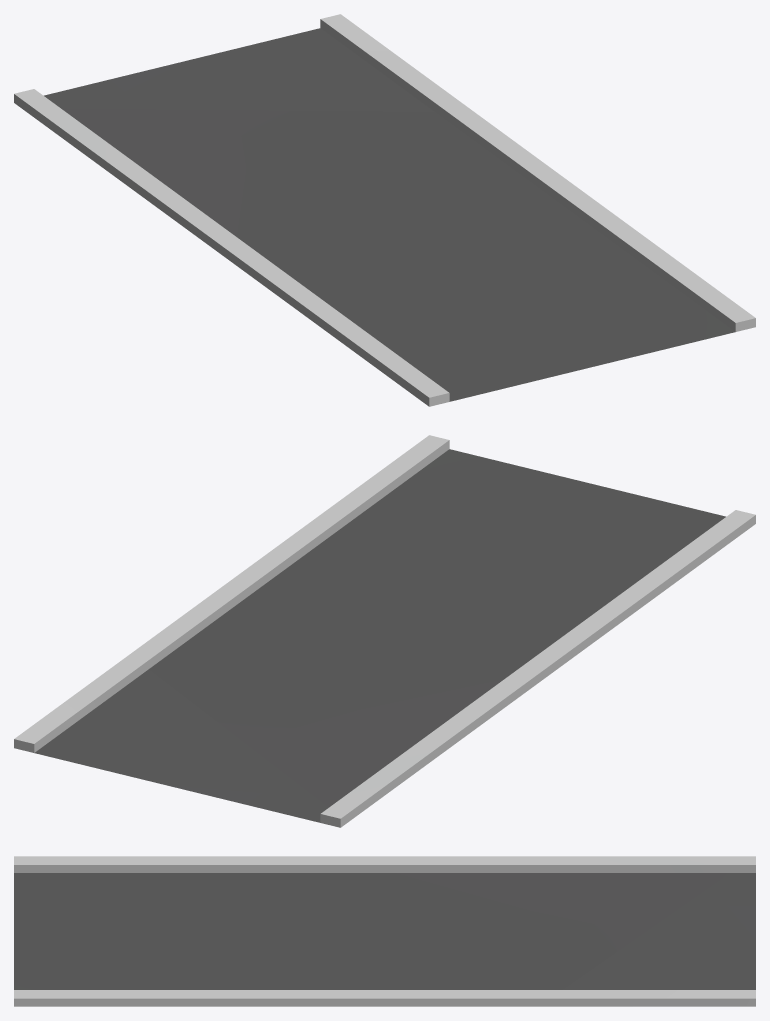
File: Road.fbx
The picture shows the model from 3 angles, top to bottom: view 1: azimuth 30°, elevation 25°; view 2: azimuth 150°, elevation 25°; view 3: azimuth 270°, elevation 25°; orthographic projection. The views are drawn at different scales.
Parts seen in each view (by area): view 1: Road; view 2: Road; view 3: Road.
Part boxes in pixels (bbox=[...]): Road: bbox=[14, 14, 755, 406]; Road: bbox=[14, 435, 755, 827]; Road: bbox=[14, 856, 755, 1006].
Size of the model in its own units: 11.31 by 0.3 by 24.91.
